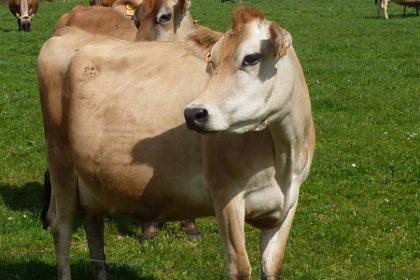muzzles: (181, 102, 222, 138)
